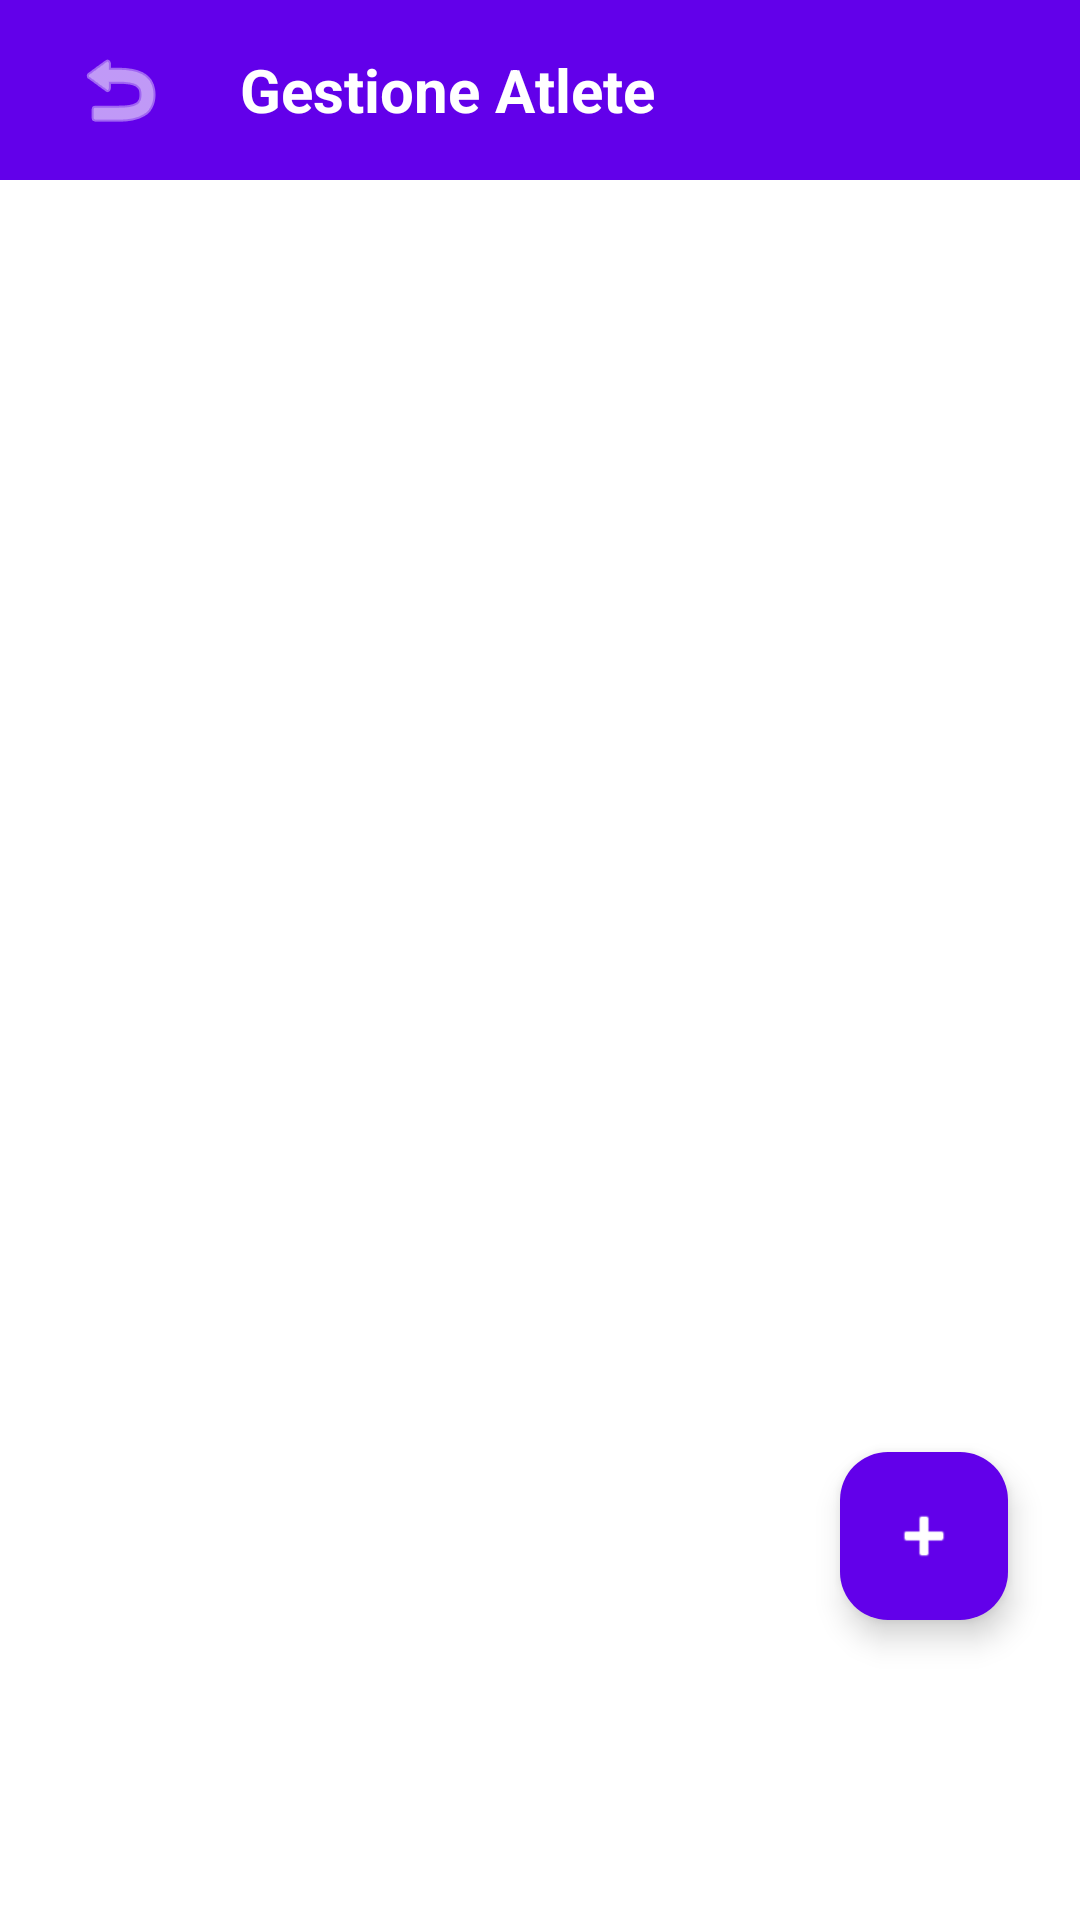

Named icons in this screenshot (1080 x 1920) and their bounding boxes, (x1, y1, x2, y2):
Aggiungi atleta: (840, 1452, 1008, 1620)
revert: (87, 59, 156, 122)
